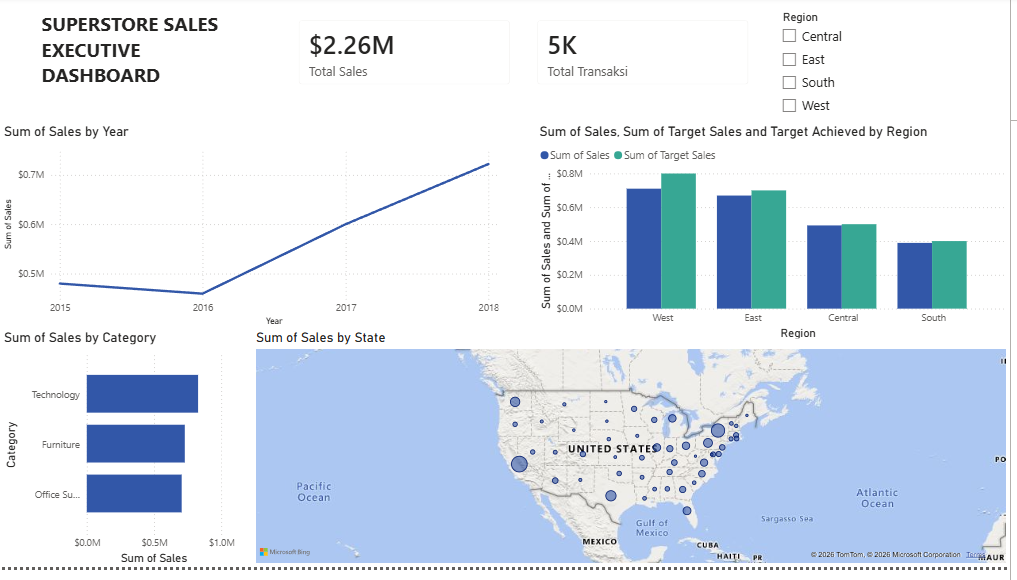

This screenshot's page, from the dashboard's own definition file:
{"tool":"powerbi","page":{"name":"Page 1","canvas":[1280,720],"ordinal":0},"visuals":[{"type":"barChart","fields":{"Category":["train.Category"],"Y":["Sum(train.Sales)"]},"box":[7.6,419.5,300.5,300.5],"z":0},{"type":"lineChart","fields":{"Category":["train.Order Date.Variation.Date Hierarchy.Year","train.Order Date.Variation.Date Hierarchy.Quarter","train.Order Date.Variation.Date Hierarchy.Month","train.Order Date.Variation.Date Hierarchy.Day"],"Y":["Sum(train.Sales)"]},"box":[7.6,160.6,633.1,258.9],"z":1000},{"type":"cardVisual","fields":{"Data":["Sum(train.Sales)"]},"box":[366.6,13.2,300.5,115.3],"z":2000},{"type":"cardVisual","fields":{"Data":["train.Total Transaksi"]},"box":[667.1,13.2,300.5,115.3],"z":3000},{"type":"map","fields":{"Category":["train.State"],"Size":["Sum(train.Sales)"]},"box":[325,419.5,954.3,300.5],"z":4000},{"type":"slicer","fields":{"Values":["train.Region"]},"box":[980.8,13.2,279.7,147.4],"z":5000},{"type":"clusteredColumnChart","fields":{"Category":["Target_Wilayah.Region"],"Y":["Sum(train.Sales)","Sum(Target_Wilayah.Target Sales)"]},"box":[682.2,160.6,597.2,275.9],"z":6000},{"type":"textbox","box":[54.8,13.2,279.7,115.3],"z":6001}]}

Visuals, with their boxes in screenshot pixels (x1, y1, x2, y2), scaled from the page's 1280x720 canvas onto the 1017x580 screenshot:
barChart - train.Category x Sum(train.Sales): BBox(6, 338, 245, 579)
lineChart - train.Order Date.Variation.Date Hierarchy.Year x train.Order Date.Variation.Date Hierarchy.Quarter: BBox(6, 129, 509, 338)
cardVisual - Sum(train.Sales): BBox(291, 11, 530, 104)
cardVisual - train.Total Transaksi: BBox(530, 11, 769, 104)
map - train.State x Sum(train.Sales): BBox(258, 338, 1016, 579)
slicer - train.Region: BBox(779, 11, 1002, 129)
clusteredColumnChart - Target_Wilayah.Region x Sum(train.Sales): BBox(542, 129, 1016, 352)
textbox: BBox(44, 11, 266, 104)
